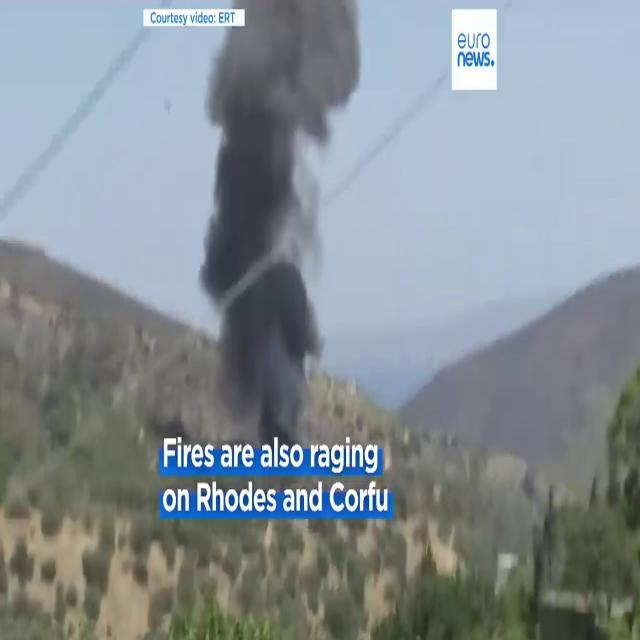Smoke: (198, 1, 364, 454)
